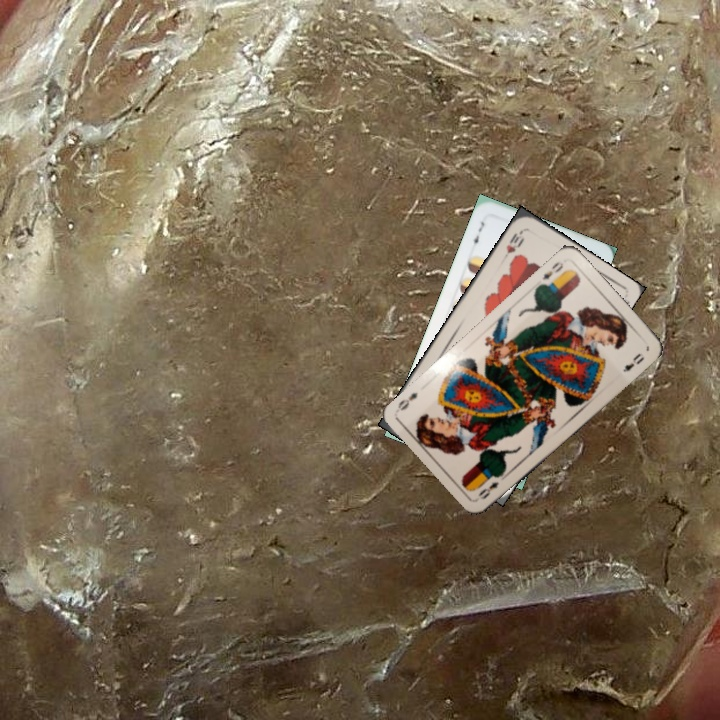E7: (467, 217, 487, 250)
EO: (536, 257, 566, 289), (474, 477, 502, 502)
H10: (502, 226, 527, 256)
